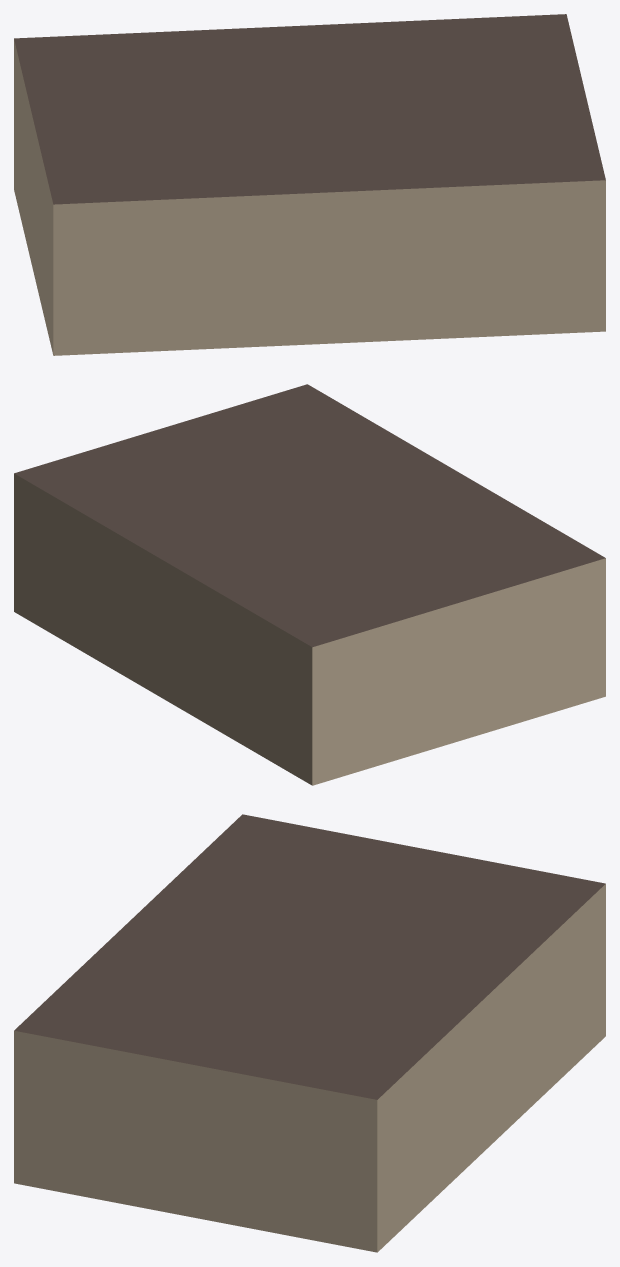
3 renders of one model, top to bottom at view 1: azimuth 30°, elevation 25°; view 2: azimuth 150°, elevation 25°; view 3: azimuth 270°, elevation 25°, orthographic. The views are drawn at different scales.
Visible parts, largest first — view 1: HP-w859082566; view 2: HP-w859082566; view 3: HP-w859082566.
Boxes of the visible parts, x1,y1,x2,y2 form: HP-w859082566: (14,14,605,355); HP-w859082566: (14,384,605,785); HP-w859082566: (14,814,605,1252).
Size of the model in its own units: 36.1 by 9 by 31.62.
